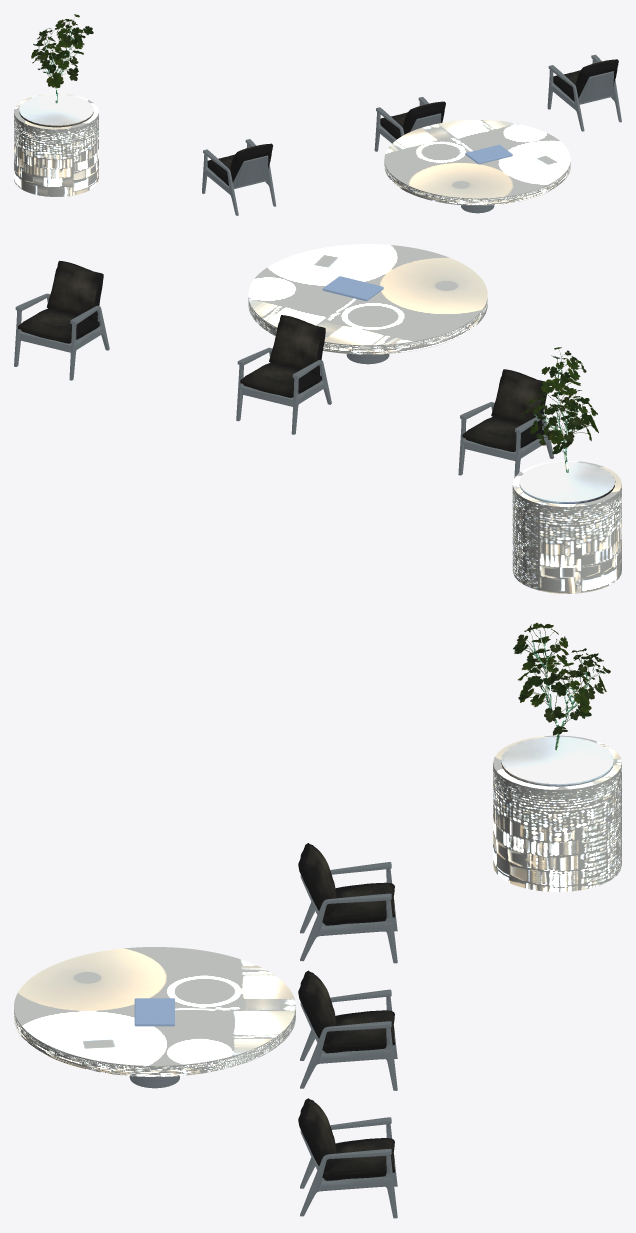
Rendered from vision.glb.
The picture shows the model from 3 angles, top to bottom: view 1: azimuth 30°, elevation 25°; view 2: azimuth 150°, elevation 25°; view 3: azimuth 270°, elevation 25°; orthographic projection. The views are drawn at different scales.
Parts seen in each view (by area): view 1: Static_vision; view 2: Static_vision; view 3: Static_vision.
Part boxes in pixels (bbox=[...]): Static_vision: bbox=[14, 14, 621, 215]; Static_vision: bbox=[14, 244, 621, 593]; Static_vision: bbox=[14, 622, 621, 1218].
Size of the model in its own units: 9.05 by 2.75 by 6.04.
Materials: 7 (5 with a texture image).
